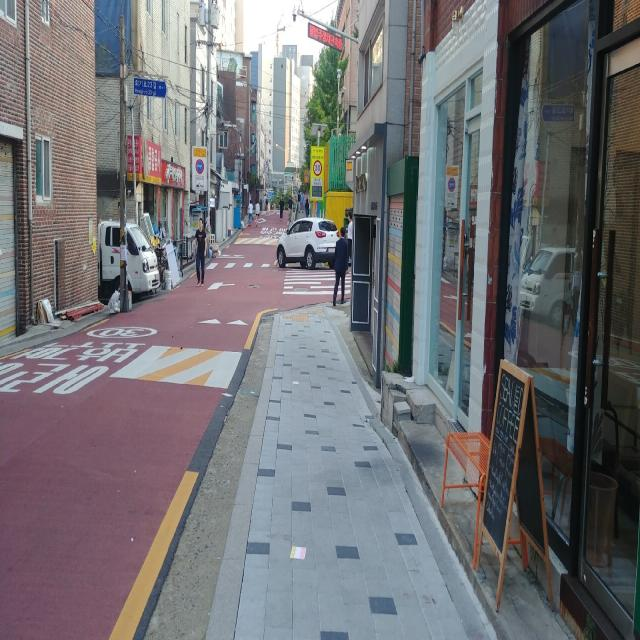횡단보도: (282, 268, 351, 295)
